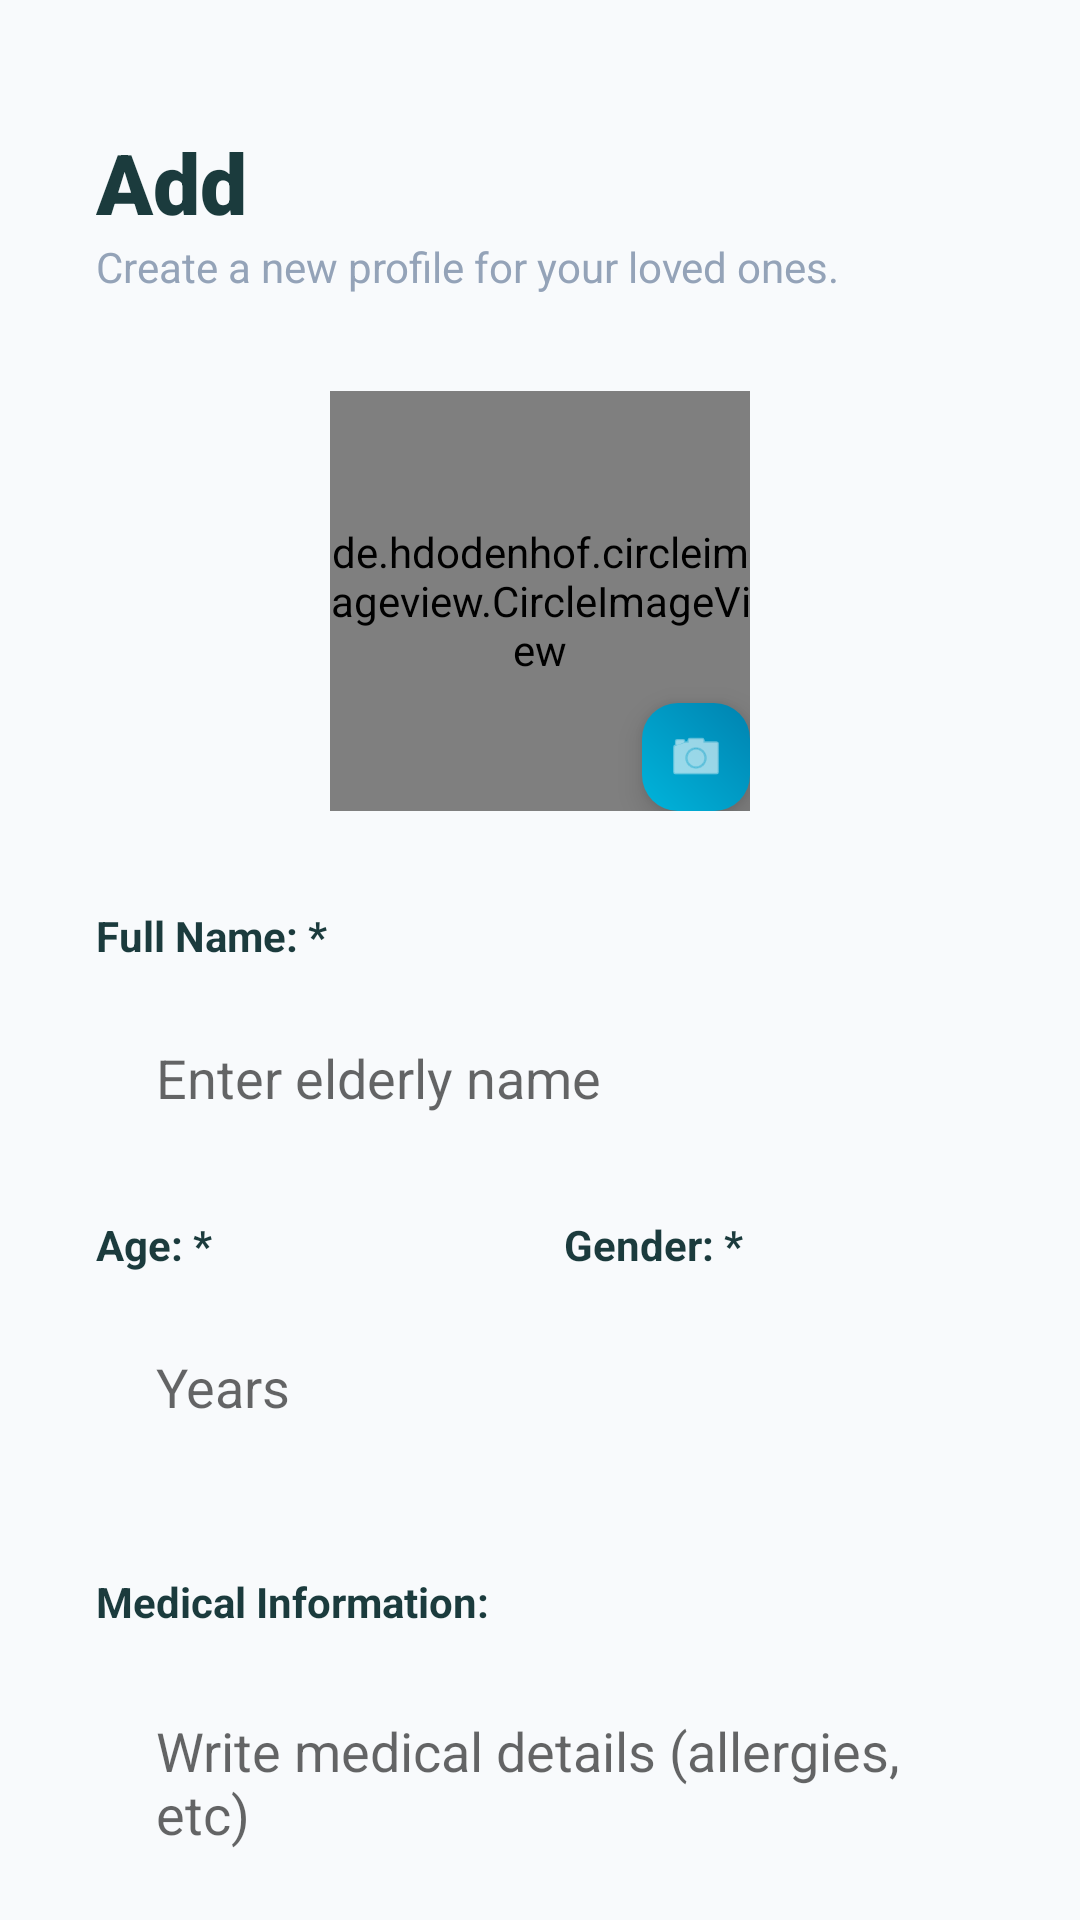

Screen size 1080x1920. Icon name, then its center in pixels as (x,y):
camera: (696,757)
